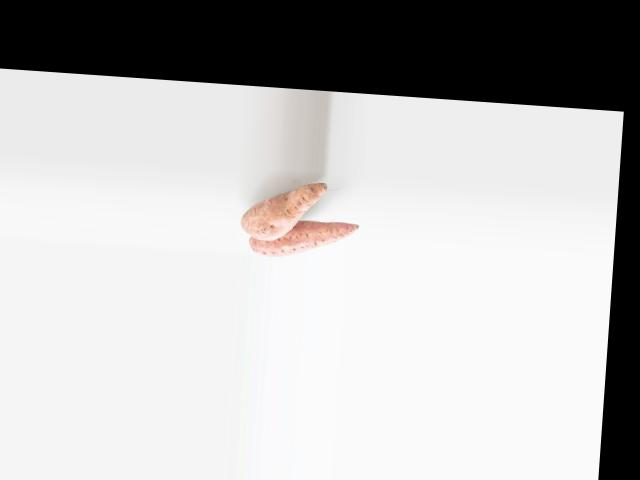sweet_potato: (248, 216, 352, 260)
